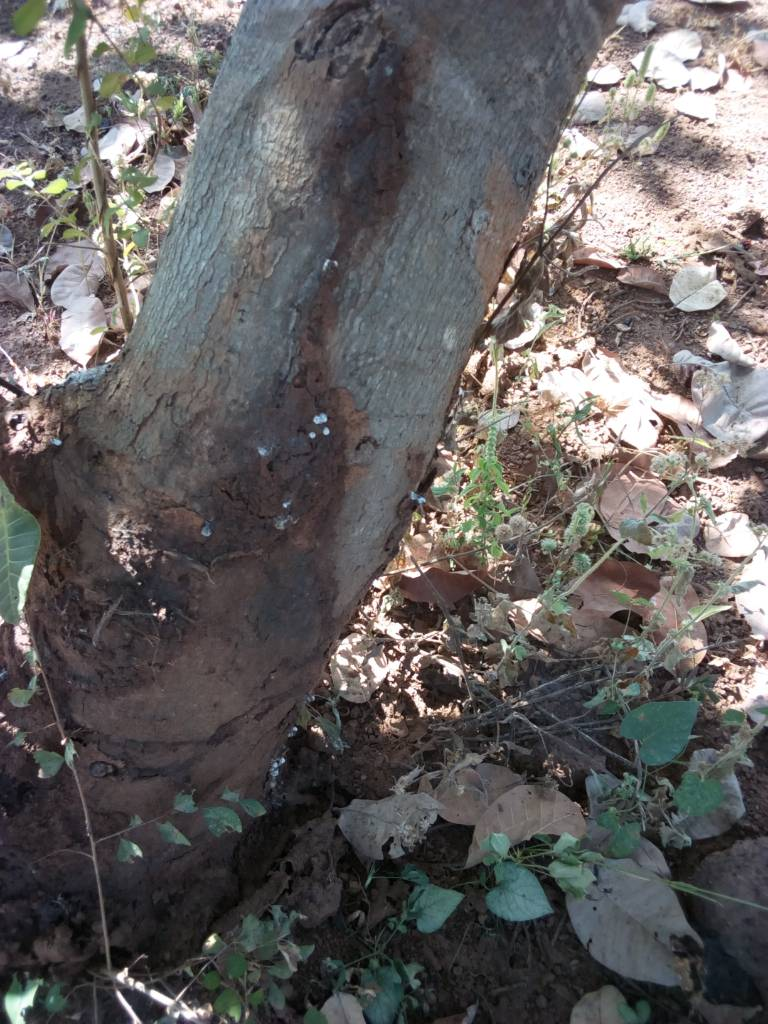Termites: (21, 369, 360, 842), (294, 19, 416, 350)
